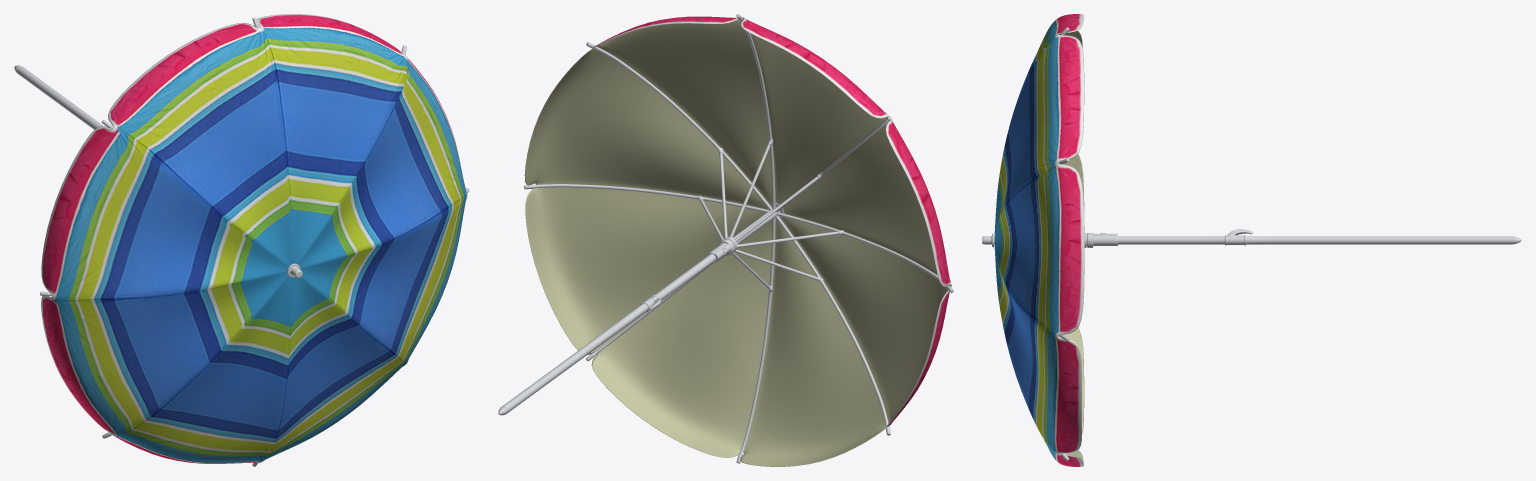
The model's file is sunbrella.gltf.
The picture shows the model from 3 angles, left to right: view 1: azimuth 30°, elevation 25°; view 2: azimuth 150°, elevation 25°; view 3: azimuth 270°, elevation 25°; orthographic projection. The views are drawn at different scales.
Parts seen in each view (by area): view 1: 12984_beach_umbrella_v1_L2; view 2: 12984_beach_umbrella_v1_L2; view 3: 12984_beach_umbrella_v1_L2.
Boxes of the visible parts, bbox=[...] form: 12984_beach_umbrella_v1_L2: bbox=[14, 14, 469, 466]; 12984_beach_umbrella_v1_L2: bbox=[498, 14, 953, 466]; 12984_beach_umbrella_v1_L2: bbox=[982, 14, 1521, 466].
Size of the model in its own units: 126 by 126 by 145.
Materials: 1 (1 with a texture image).
